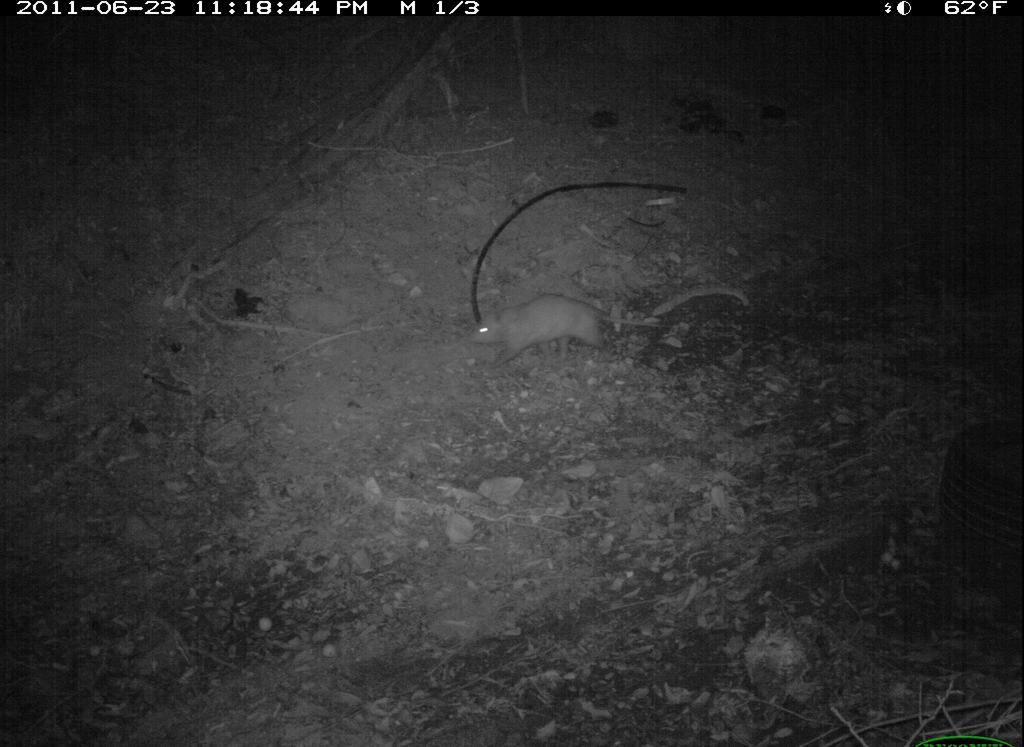opossum: (466, 286, 675, 376)
